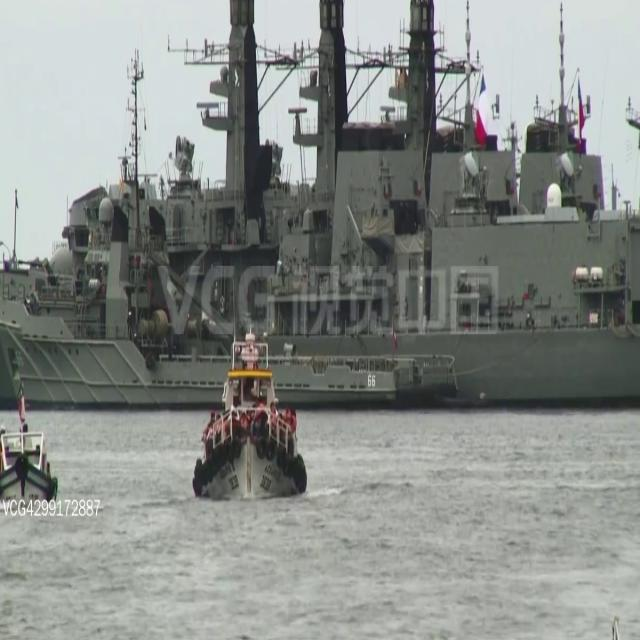houseboat: (188, 329, 304, 501), (0, 376, 59, 511)
navalvessels: (0, 0, 640, 417)
